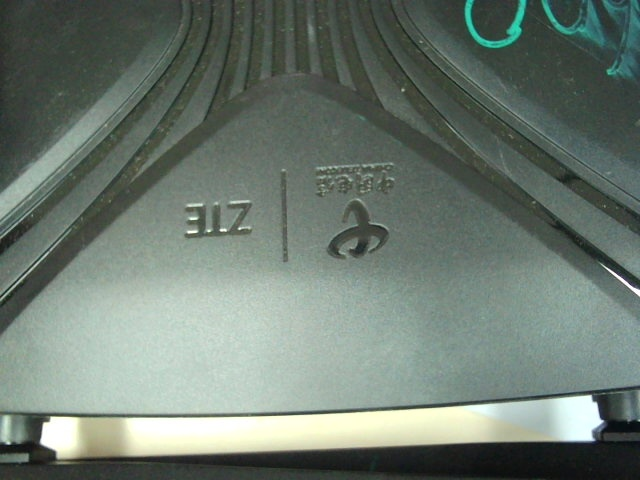AX_ZTEChinaTelecom: (173, 155, 408, 264)
